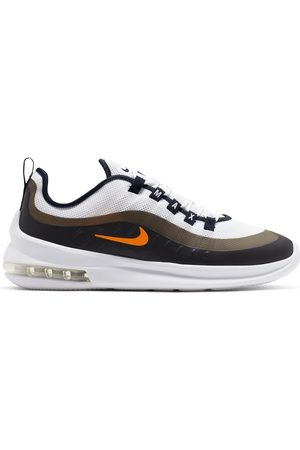nike: (92, 226, 151, 251)
